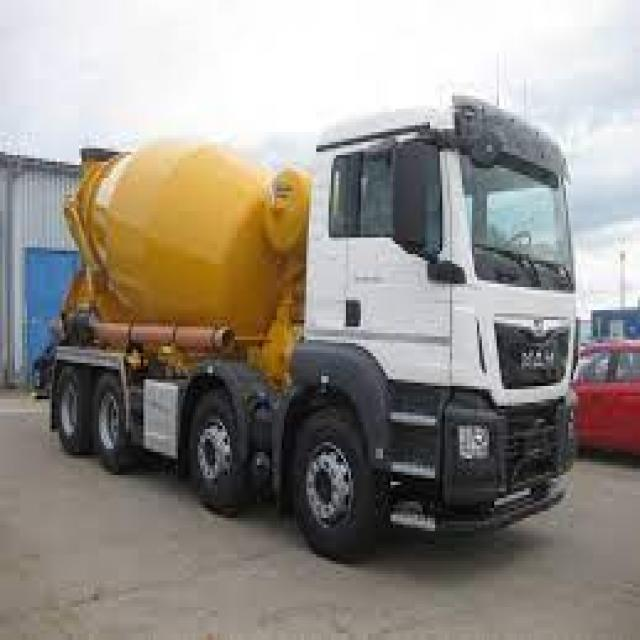Mixer Truck: (32, 84, 580, 570)
